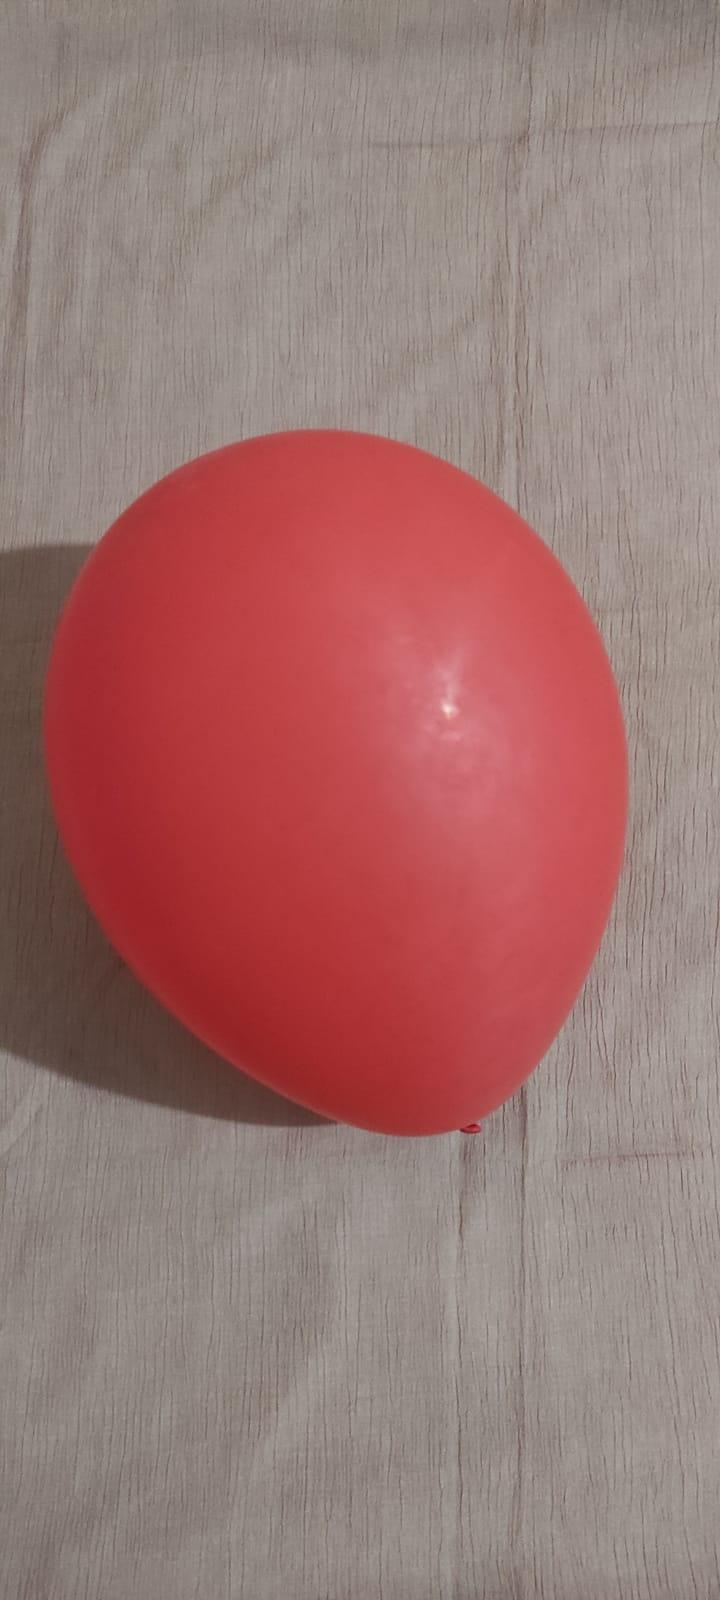red: (41, 424, 640, 1153)
